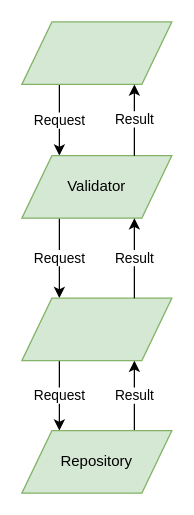
This 194x515 diagram has some shape labels left out. The shapes that lost their labels are listed below. From the top down, each one's centre as x and y in pixels, then its label:
At (x=96, y=52): "API-controller".
At (x=96, y=329): "Service".
